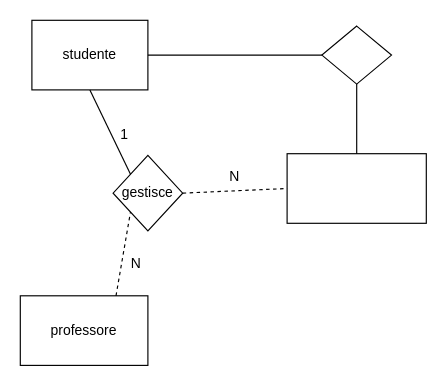
Some shapes in this 447 by 386 pixel diagram are drawn without their labels. The centre of each missing label's shape, as x and y in pixels:
azienda: the point at 356,188
segnala: the point at 356,54
